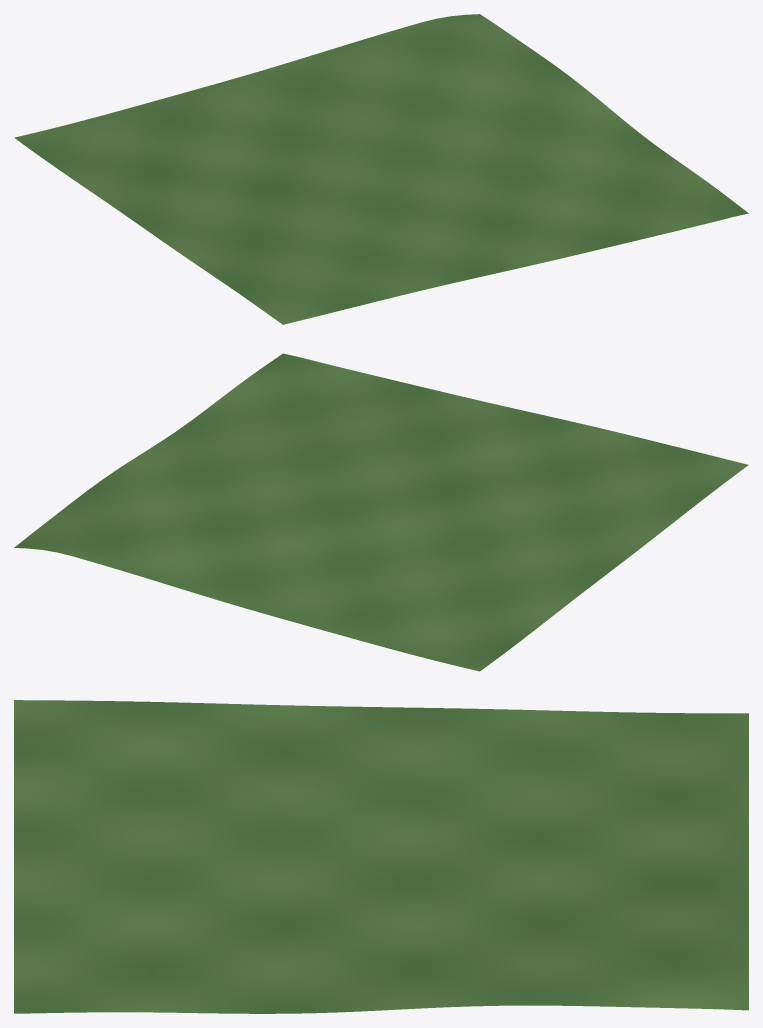
File: chunk_4_7.glb
3 views of the same model, one above another, from view 1: azimuth 30°, elevation 25°; view 2: azimuth 150°, elevation 25°; view 3: azimuth 270°, elevation 25° (orthographic). The views are drawn at different scales.
Size of the model in its own units: 512 by 17.32 by 512.
